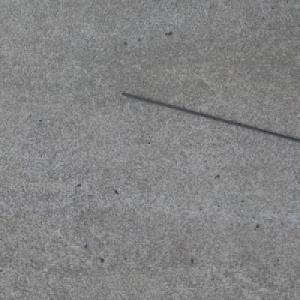LuggagePart: (119, 91, 300, 143)
